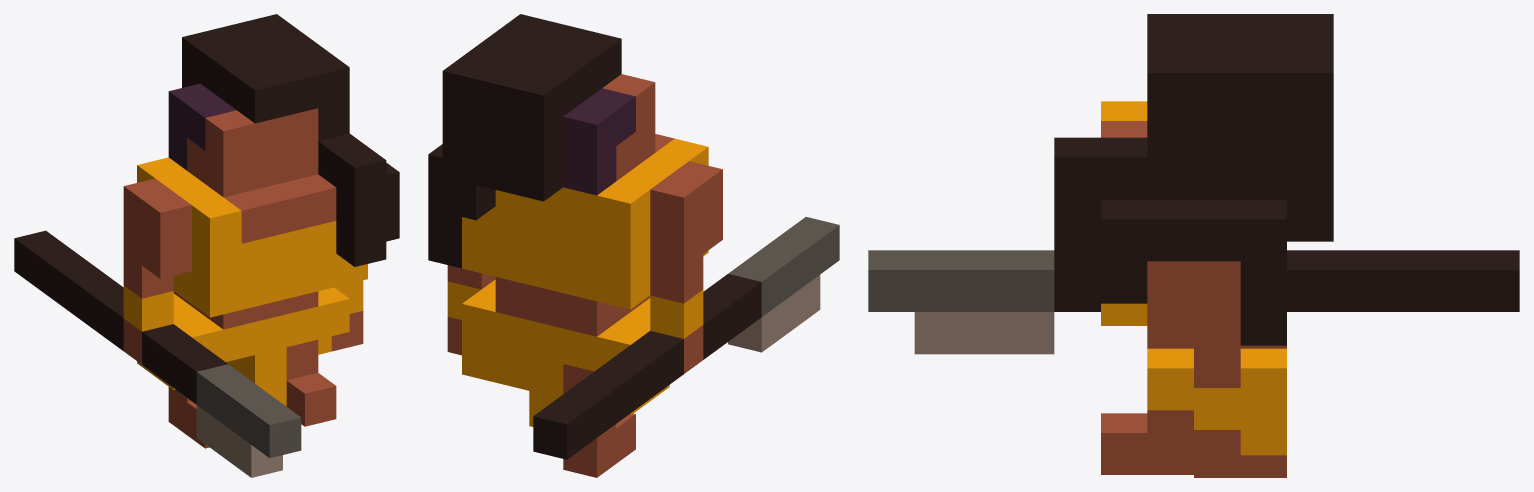
The model's file is amazon_walk_1.obj.
3 views of the same model, side by side, from view 1: azimuth 30°, elevation 25°; view 2: azimuth 150°, elevation 25°; view 3: azimuth 270°, elevation 25° (orthographic). The views are drawn at different scales.
Size of the model in its own units: 0.7 by 1.1 by 1.4.
Materials: 1 (1 with a texture image).
